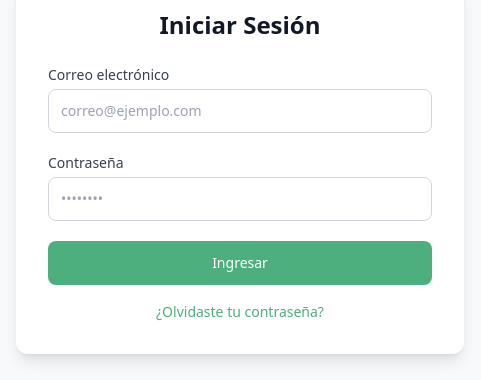
it: LoginPage › bug condition — toggle propio de contraseña (Property 1) › caso móvil (sin control nativo): existe una forma accesible de revelar la contraseña
This screenshot has width=481, height=380.
Note: Escribir contenido para que aparezca el toggle.
Type "clave123" into the password field labelled "Contraseña".
click(240, 198); type("clave123")  # box [48,176,432,220]
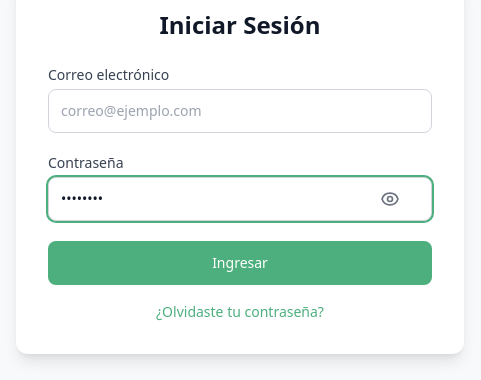
Check: the button named "mostrar contraseña" is shown
Note: puedeAlternarVisibilidad: al activarlo, la contraseña se hace visible.
Click the button named "mostrar contraseña".
click(402, 198)  # box [380,176,424,220]
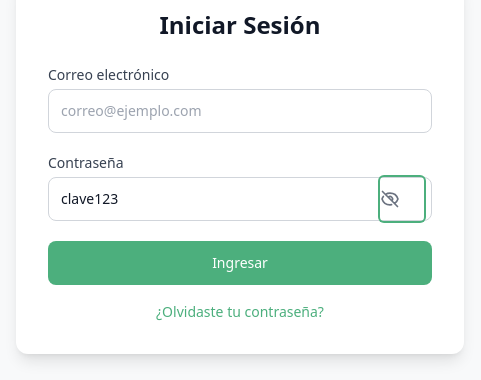
Check: the field labelled "Contraseña" shows its text, box [48,176,432,220]
